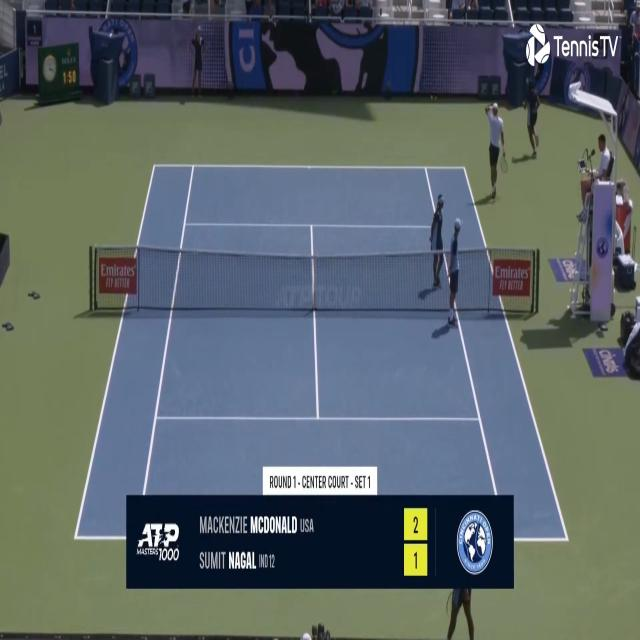tennis-player: (483, 98, 508, 202)
